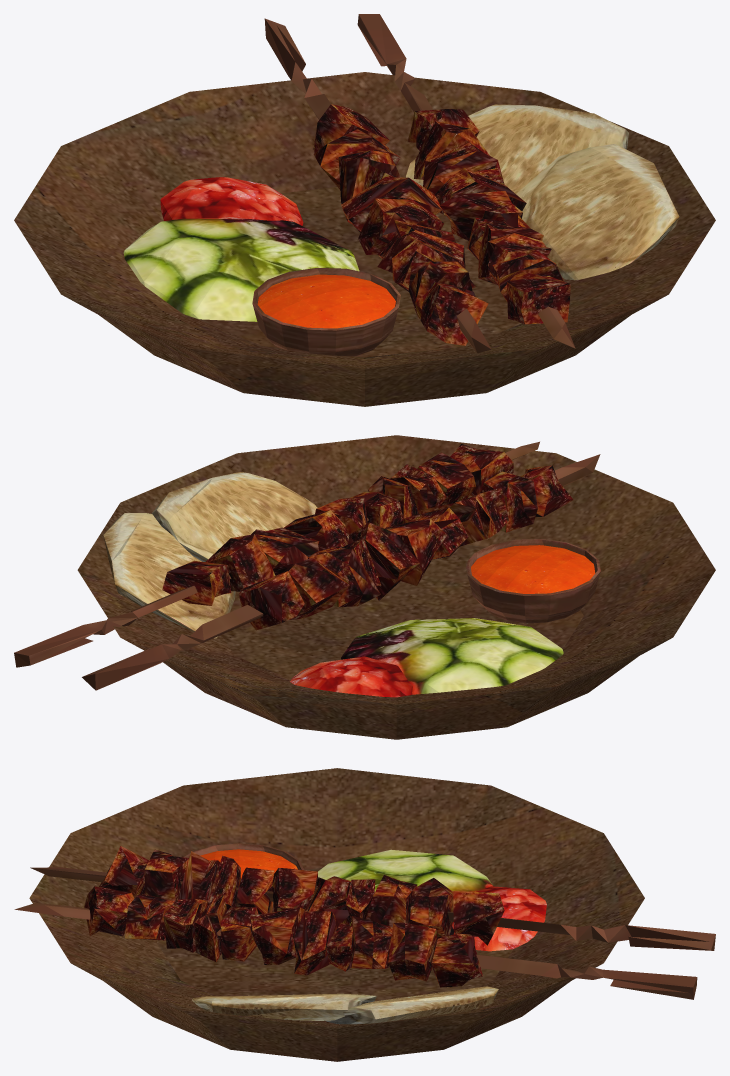
Rendered from ITFO_GS_SHAW_03.glb.
3 renders of one model, top to bottom at view 1: azimuth 30°, elevation 25°; view 2: azimuth 150°, elevation 25°; view 3: azimuth 270°, elevation 25°, orthographic. The views are drawn at different scales.
Parts seen in each view (by area): view 1: ITFO_GS_SHAW_03; view 2: ITFO_GS_SHAW_03; view 3: ITFO_GS_SHAW_03.
Part boxes in pixels (box(x1,y1,x2,y2)): ITFO_GS_SHAW_03: box(14, 14, 715, 406); ITFO_GS_SHAW_03: box(14, 435, 715, 739); ITFO_GS_SHAW_03: box(14, 768, 715, 1061).
Size of the model in its own units: 0.3731 by 0.0717 by 0.4254.
4 materials, 4 textured.
